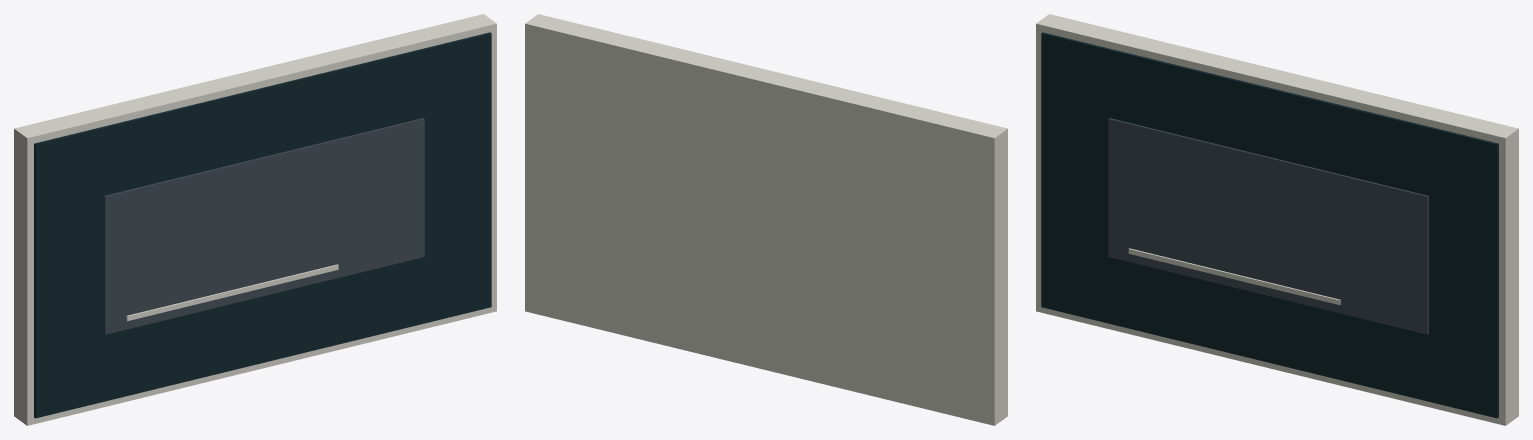
File: board-2.glb
3 views of the same model, side by side, from view 1: azimuth 30°, elevation 25°; view 2: azimuth 150°, elevation 25°; view 3: azimuth 330°, elevation 25° (orthographic).
Parts seen in each view (by area): view 1: board:2:editor; view 2: board:2:editor; view 3: board:2:editor.
Boxes of the visible parts, box(x1,y1,x2,y2) form: board:2:editor: box(14, 14, 496, 425); board:2:editor: box(525, 14, 1007, 425); board:2:editor: box(1036, 14, 1518, 425).
Size of the model in its own units: 1.23 by 0.72 by 0.077.
